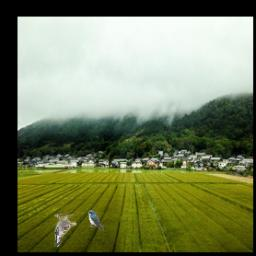Sparrow: (54, 214, 76, 247)
Swallow: (87, 211, 104, 232)
